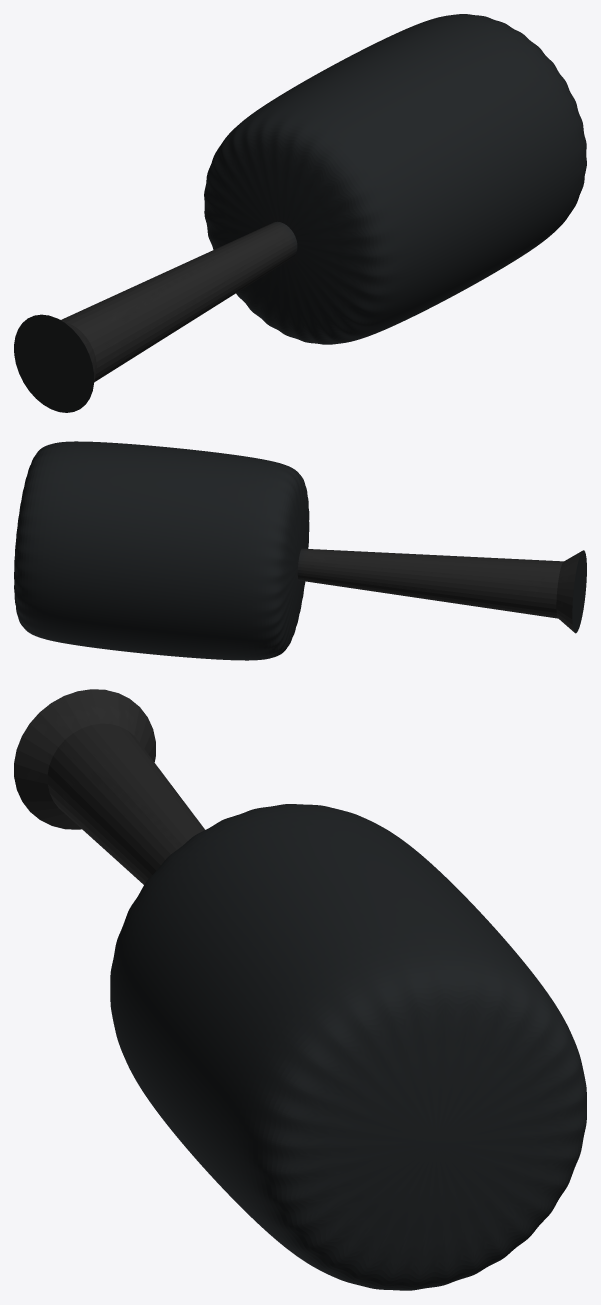
File: club.fbx
3 renders of one model, top to bottom at view 1: azimuth 30°, elevation 25°; view 2: azimuth 150°, elevation 25°; view 3: azimuth 270°, elevation 25°, orthographic. The views are drawn at different scales.
Visible parts, largest first — view 1: club; view 2: club; view 3: club.
Part boxes in pixels (x1,y1,x2,y2): club: (14, 14, 586, 412); club: (14, 441, 586, 660); club: (14, 689, 586, 1290).
Bounding box in the file's own units: 129 × 47.39 × 71.68.
